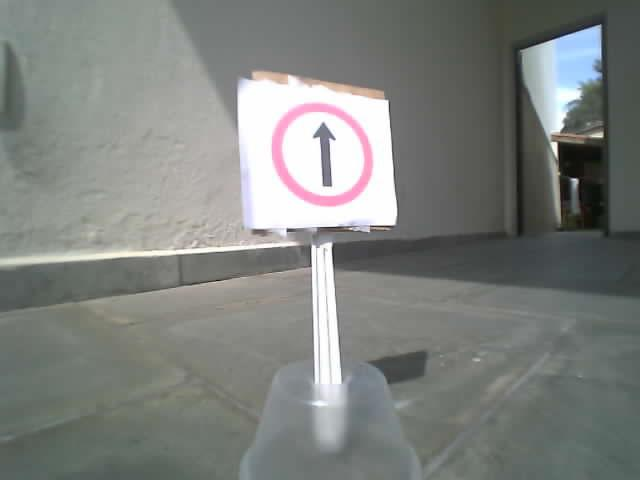R-26_frente: (271, 102, 371, 208)
